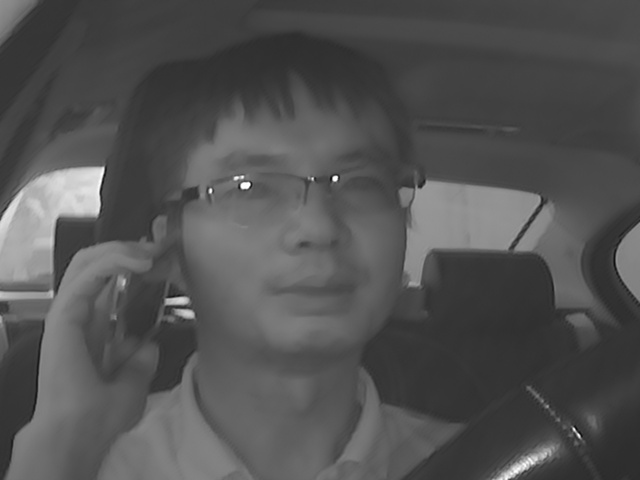hand: (34, 241, 163, 429)
